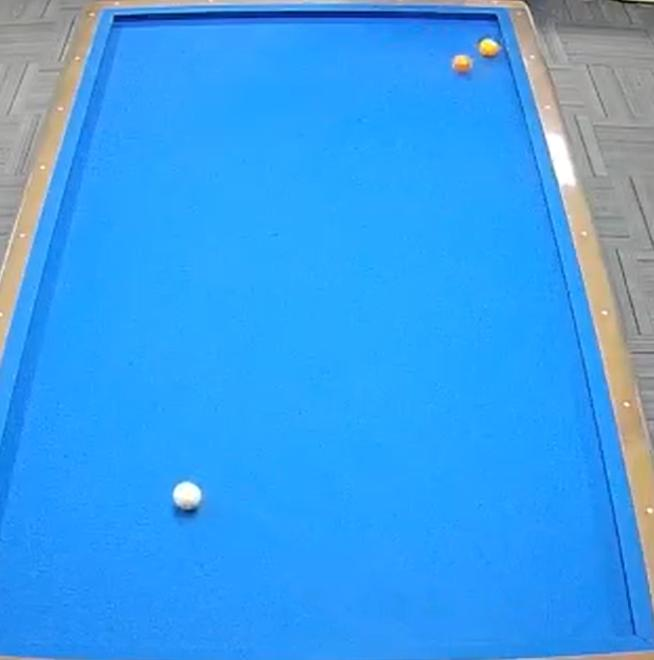orange ball: (450, 53, 476, 79)
white ball: (169, 477, 208, 521)
yellow ball: (474, 35, 502, 61)
